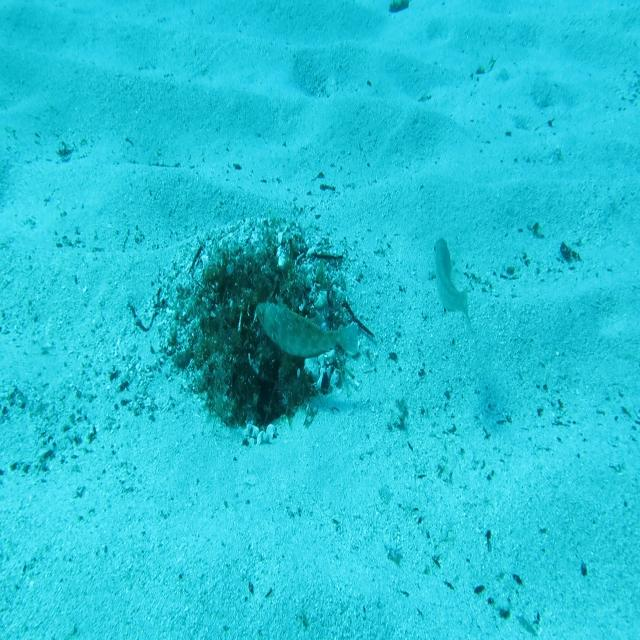FAN: (254, 298, 361, 361)
core_nest: (231, 268, 283, 304)
female: (432, 235, 472, 329)
nest: (154, 210, 366, 450)
vegetation: (386, 0, 414, 14)
